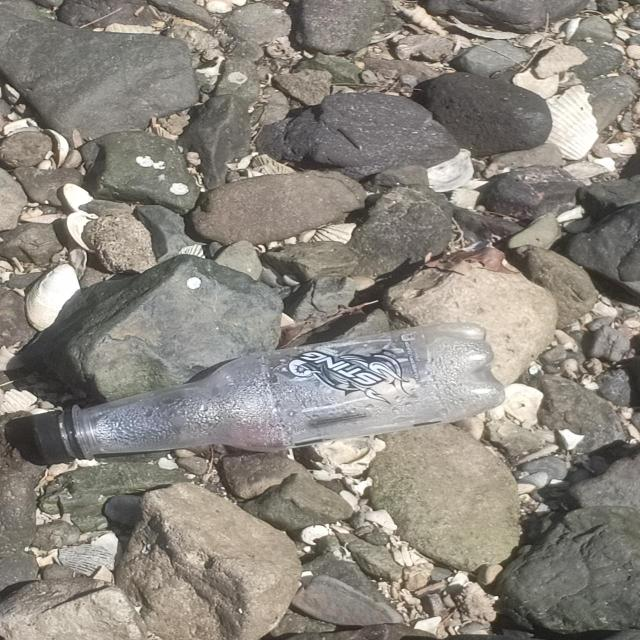plastic_waste: (34, 323, 505, 468)
